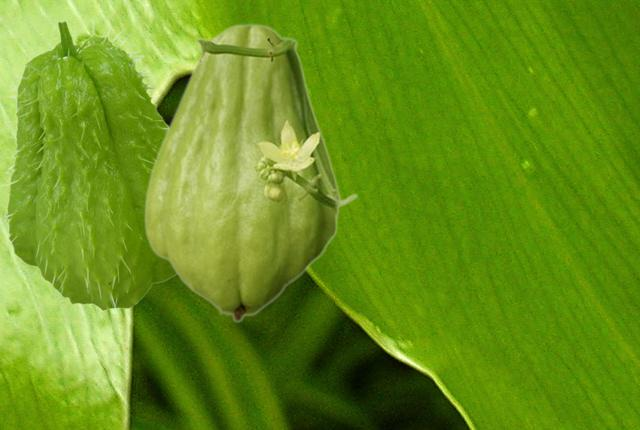sayote: (143, 23, 358, 322), (0, 16, 175, 310)
